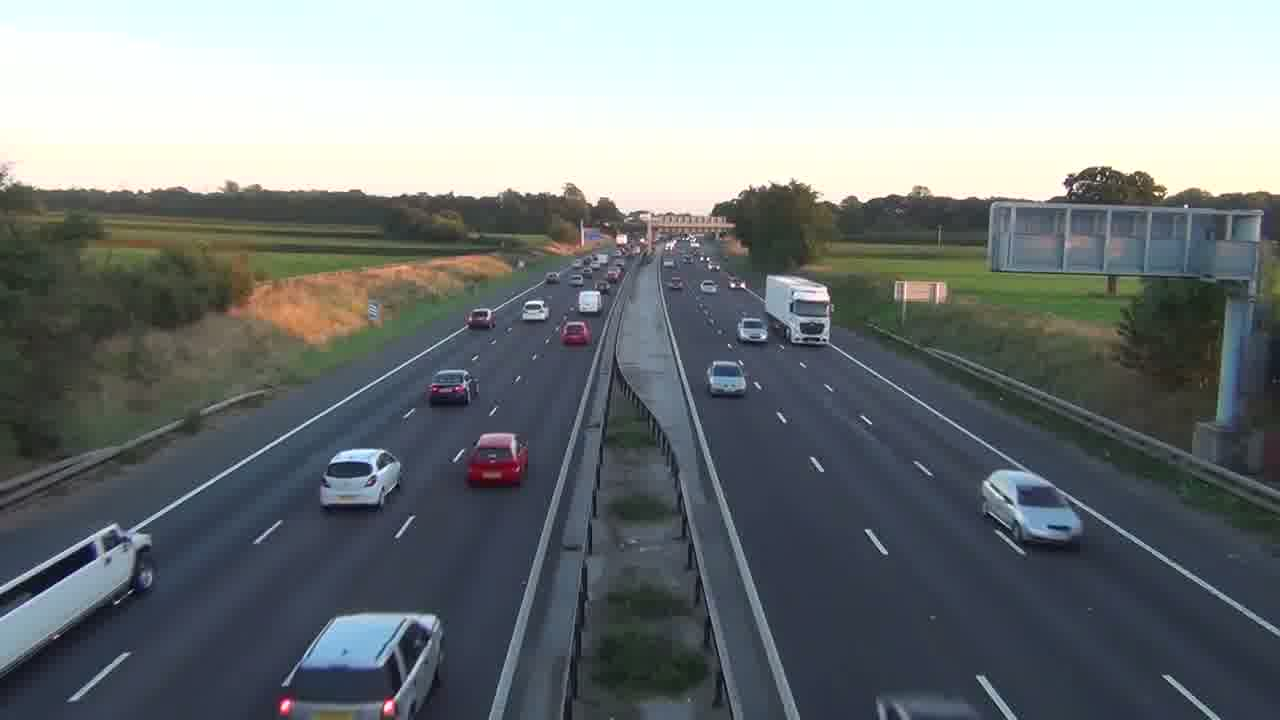bus: (0, 522, 157, 678)
car: (274, 610, 447, 718), (979, 468, 1086, 550), (318, 447, 402, 511), (465, 432, 529, 488), (425, 368, 474, 406), (706, 359, 748, 397), (736, 315, 769, 343), (464, 306, 496, 329)
truck: (0, 522, 157, 678), (765, 273, 833, 345)
